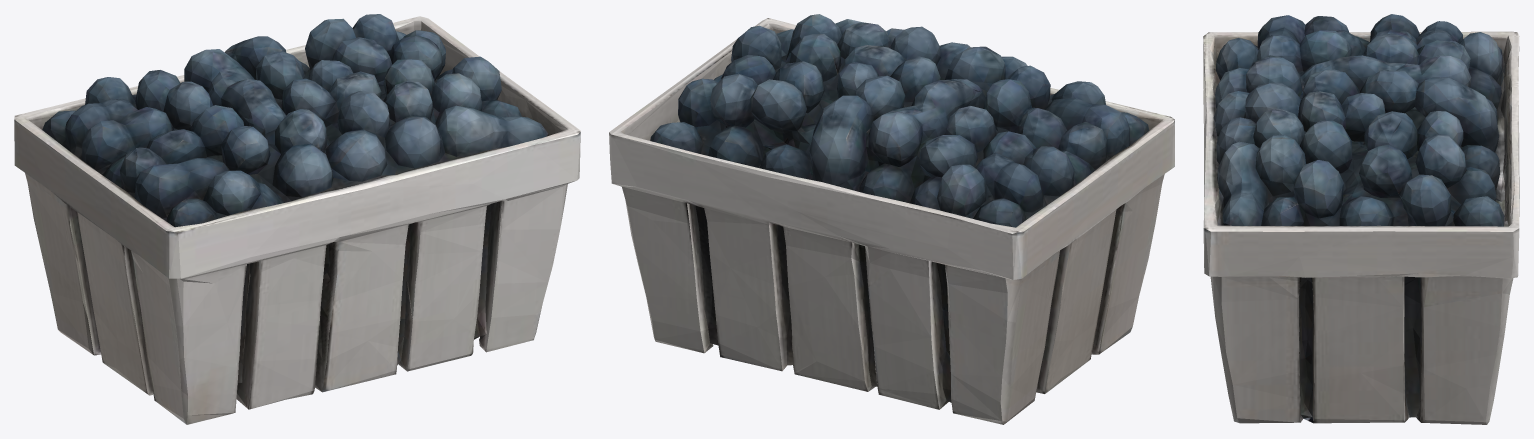
File: bcrate.glb
3 views of the same model, side by side, from view 1: azimuth 30°, elevation 25°; view 2: azimuth 150°, elevation 25°; view 3: azimuth 270°, elevation 25° (orthographic).
Visible parts, largest first — view 1: geometry_0; view 2: geometry_0; view 3: geometry_0.
Part boxes in pixels (left/top/right/bottom): geometry_0: left=14, top=14, right=580, bottom=424; geometry_0: left=609, top=14, right=1174, bottom=424; geometry_0: left=1203, top=14, right=1519, bottom=424.
Bounding box in the file's own units: 0.4921 × 0.3085 × 0.3292.
Materials: 1 (1 with a texture image).
